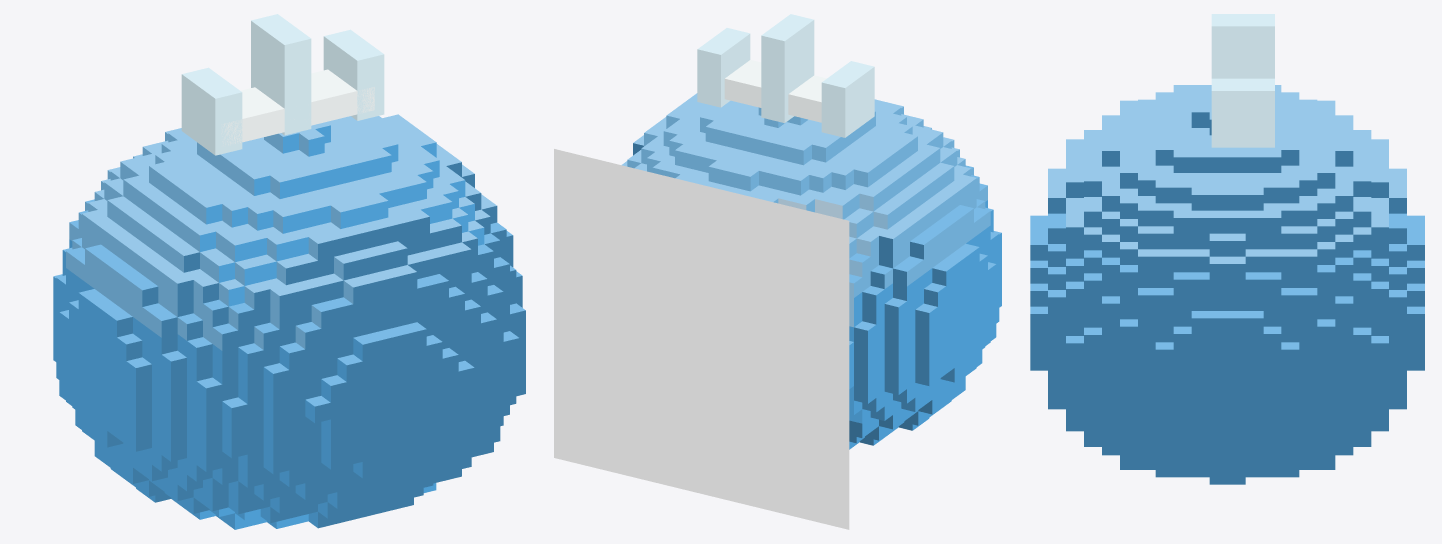
File: slime_cryo.glb
The picture shows the model from 3 angles, left to right: view 1: azimuth 30°, elevation 25°; view 2: azimuth 150°, elevation 25°; view 3: azimuth 270°, elevation 25°; orthographic projection. The views are drawn at different scales.
Parts seen in each view (by area): view 1: Shell, ElementDetails; view 2: Face, Shell, ElementDetails; view 3: Shell, ElementDetails.
Boxes of the visible parts, box(x1,y1,x2,y2) form: Shell: box(53, 114, 525, 529); ElementDetails: box(181, 14, 384, 155); Face: box(554, 149, 849, 529); Shell: box(621, 93, 1001, 449); ElementDetails: box(697, 14, 874, 137); Shell: box(1030, 85, 1424, 484); ElementDetails: box(1211, 14, 1274, 147).
Bounding box in the file's own units: 1.2 × 1.38 × 1.15.
